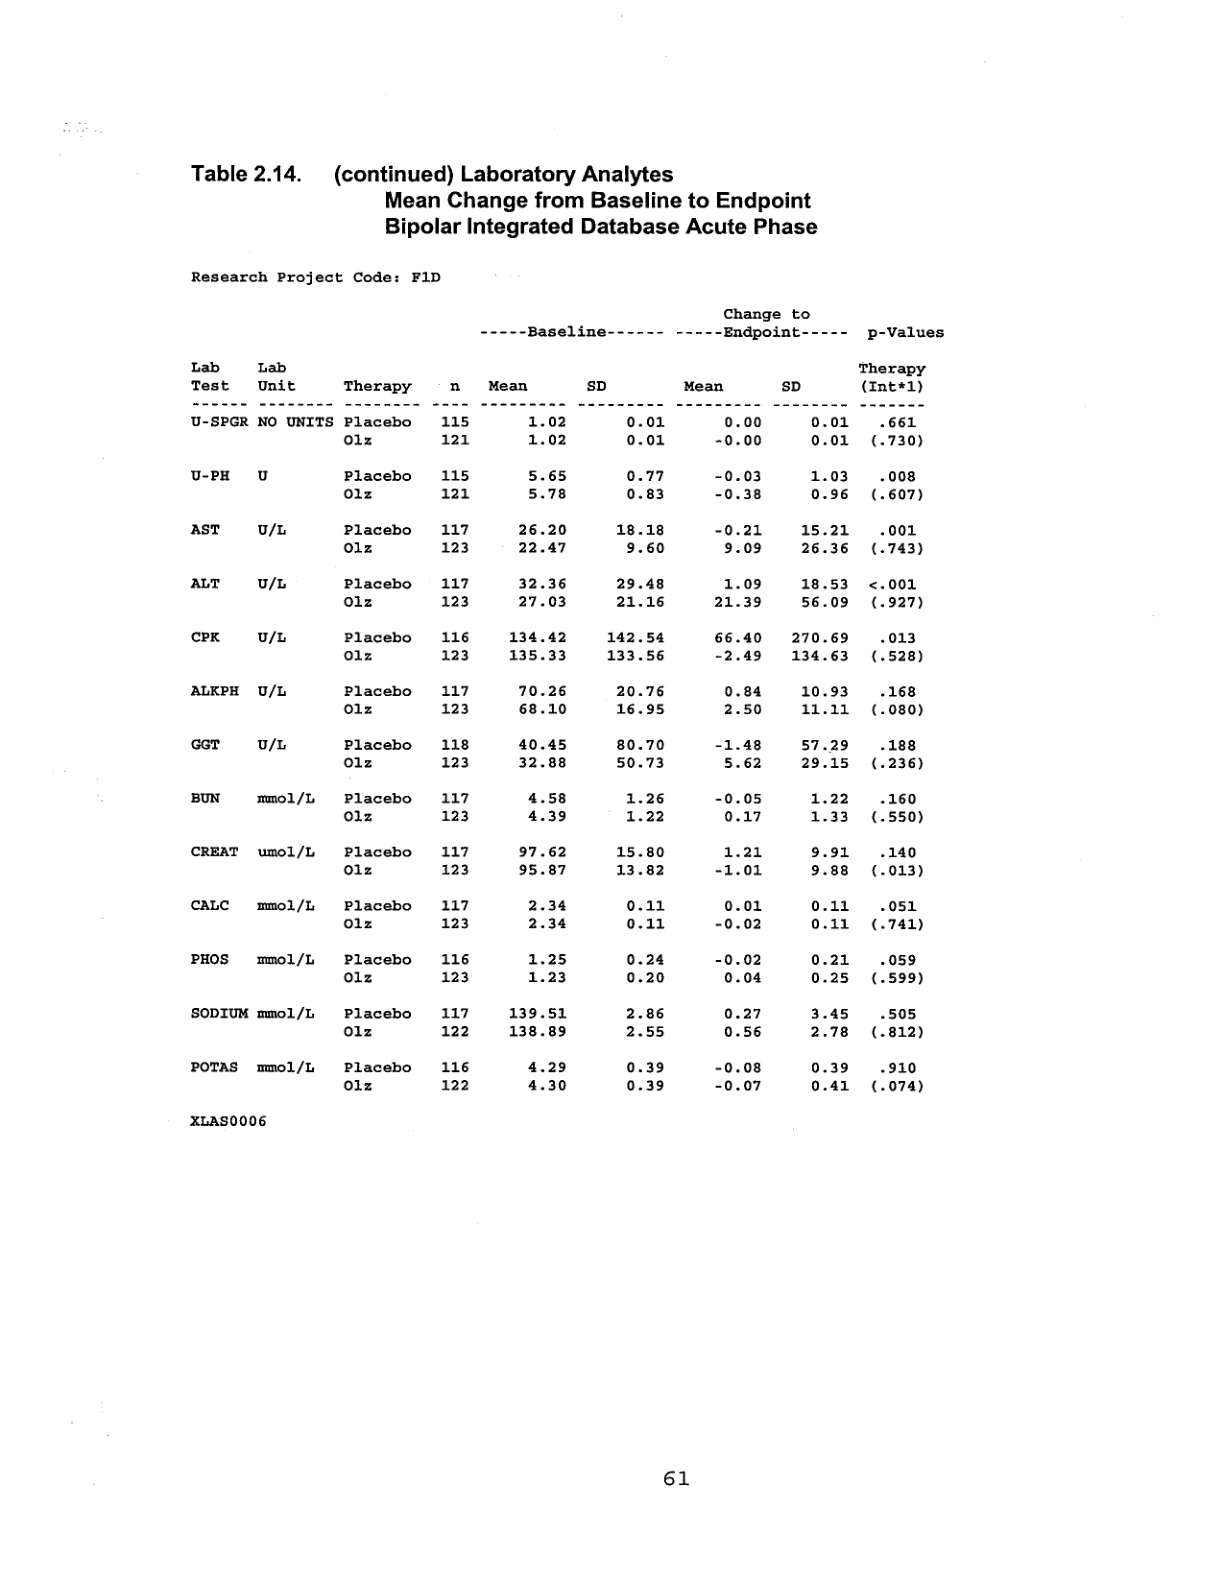nolines: (188, 306, 944, 1102)
